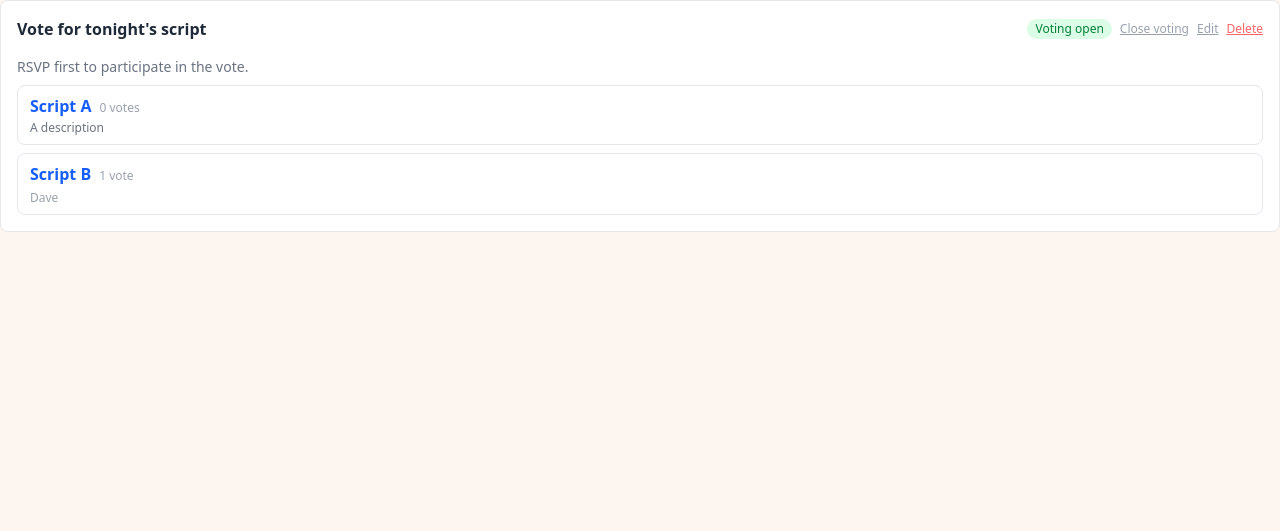
PollWidget — open poll › opens the edit form when admin clicks Edit
Click the button "Edit" at (1208, 29), box left=1197, top=21, right=1218, bottom=37
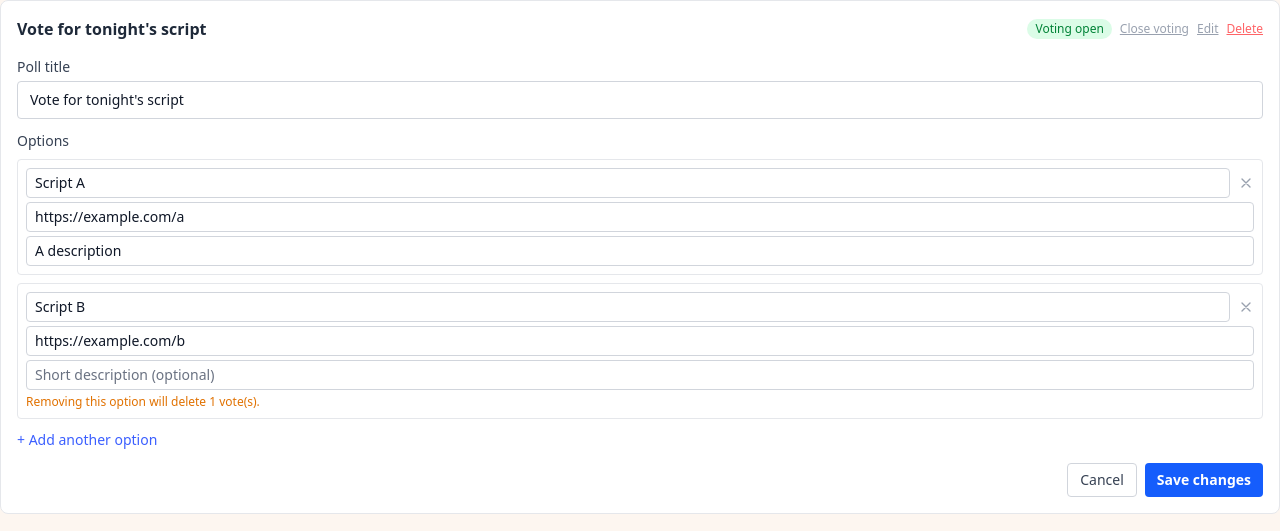
Expected: the field labelled "Poll title" is shown, left=17, top=81, right=1263, bottom=119
Expected: the button "Save changes" is shown, left=1145, top=463, right=1263, bottom=497
